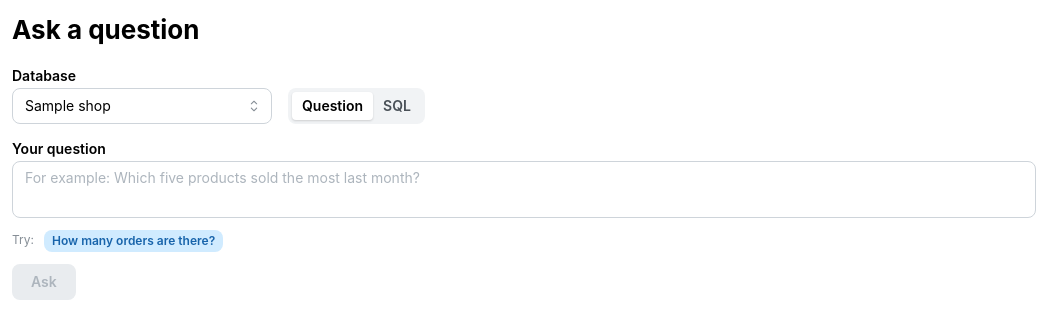
it: AskPage › suggests example questions from the allowed tables
Click the button "How many orders are there?" at [134, 241], box [44,230,223,252]
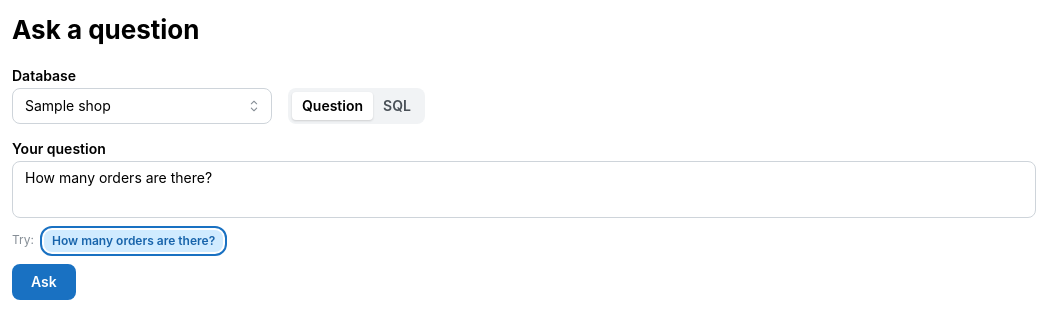
Expected: the text box labelled "Your question" holds "How many orders are there?", [12,161,1036,218]
